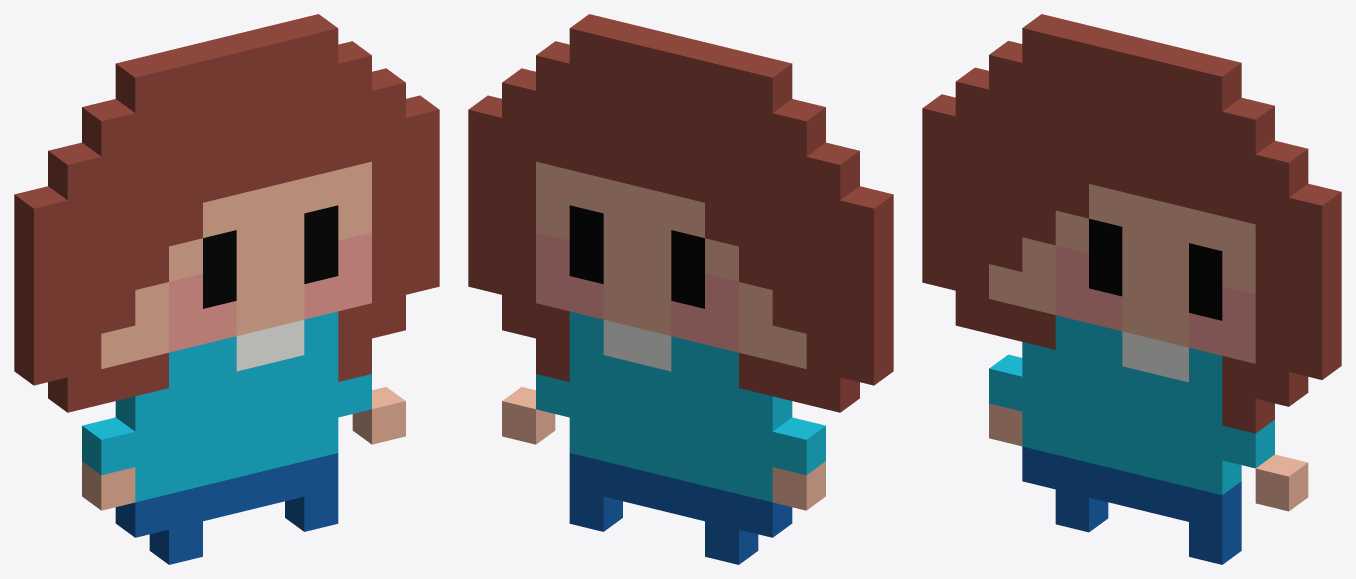
Rendered from player_run.obj.
The picture shows the model from 3 angles, left to right: view 1: azimuth 30°, elevation 25°; view 2: azimuth 150°, elevation 25°; view 3: azimuth 330°, elevation 25°; orthographic projection.
Bounding box in the file's own units: 1.2 × 1.4 × 0.1.
Materials: 1 (1 with a texture image).
